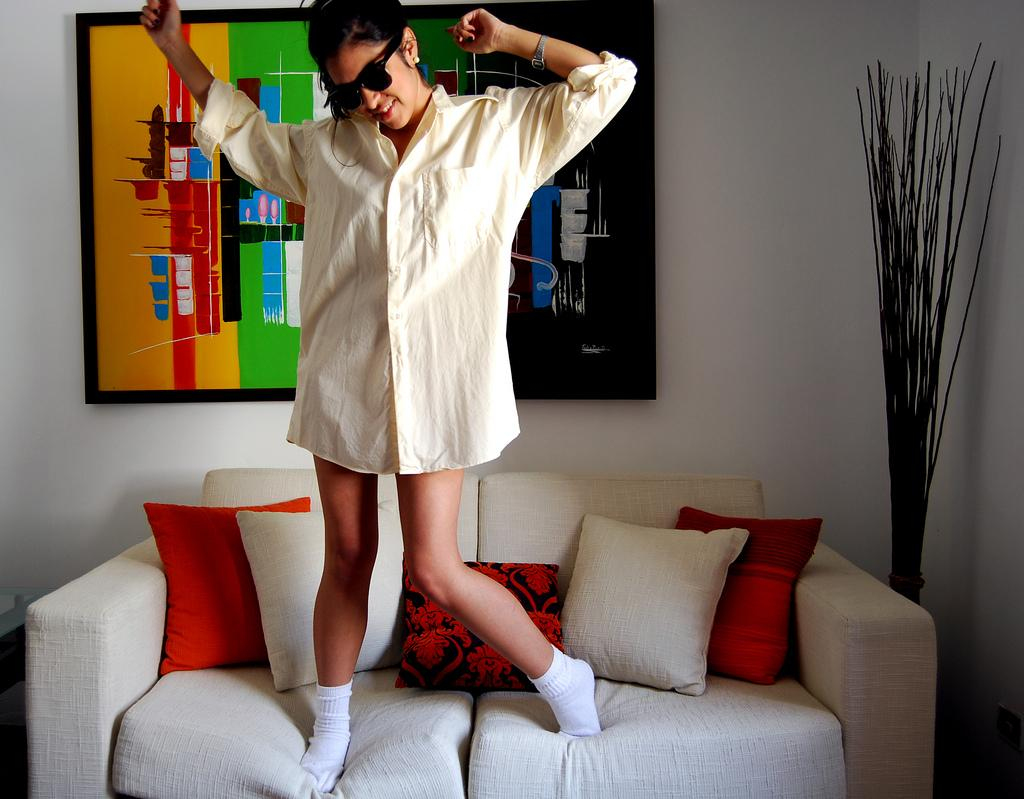face: (322, 36, 408, 134)
